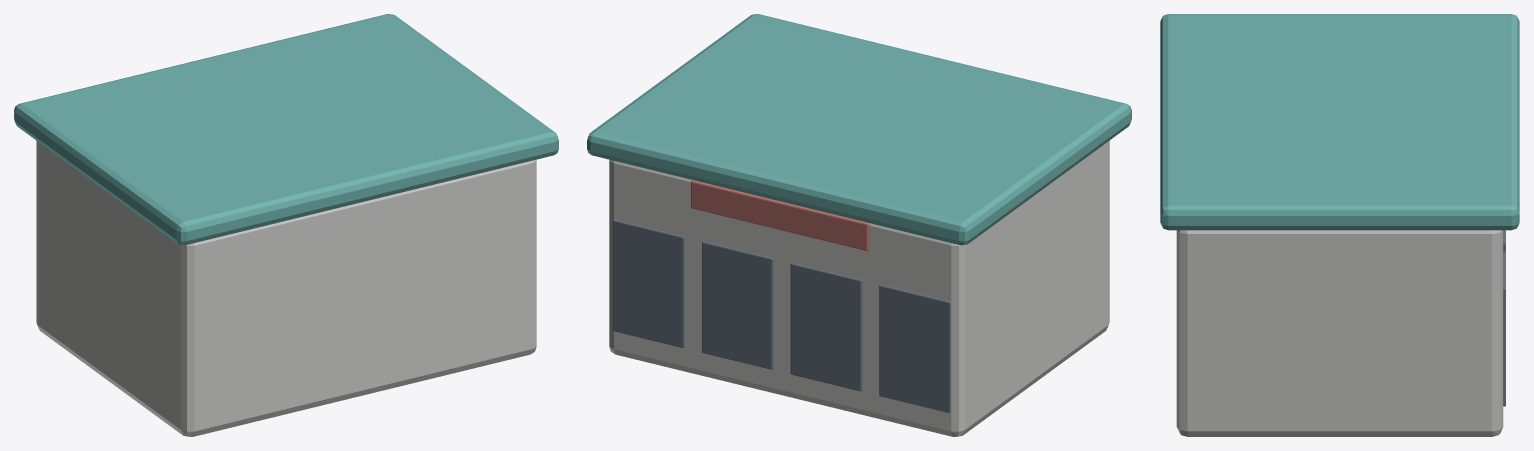
Rendered from terminal.glb.
The picture shows the model from 3 angles, left to right: view 1: azimuth 30°, elevation 25°; view 2: azimuth 150°, elevation 25°; view 3: azimuth 270°, elevation 25°; orthographic projection. The views are drawn at different scales.
Visible parts, largest first — view 1: terminal_Palette; view 2: terminal_Palette; view 3: terminal_Palette.
Boxes of the visible parts, x1=… form: terminal_Palette: x1=14, y1=14, x2=558, y2=436; terminal_Palette: x1=587, y1=14, x2=1131, y2=436; terminal_Palette: x1=1160, y1=14, x2=1519, y2=436.
Size of the model in its own units: 8.6 by 4.85 by 6.6.
